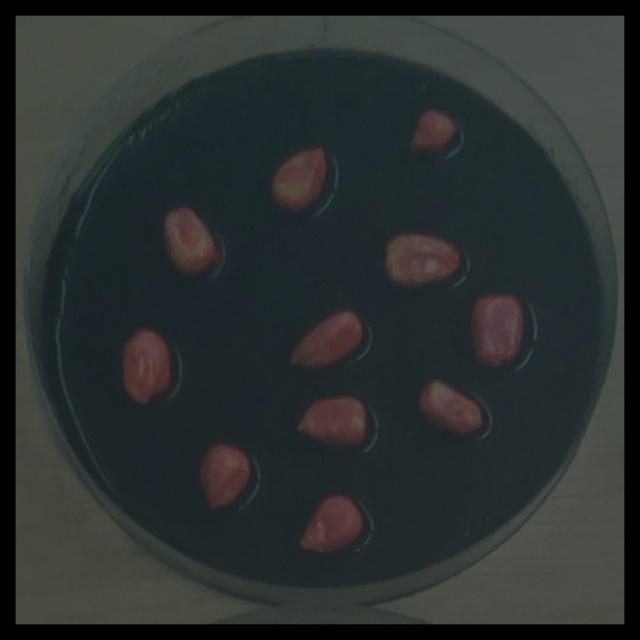Zea mays: (279, 302, 368, 377), (376, 227, 468, 296), (463, 289, 528, 377), (287, 391, 376, 455), (292, 491, 370, 563), (116, 324, 178, 412), (410, 375, 489, 444), (264, 143, 334, 220), (153, 203, 222, 281), (192, 437, 256, 520), (401, 105, 462, 162)
